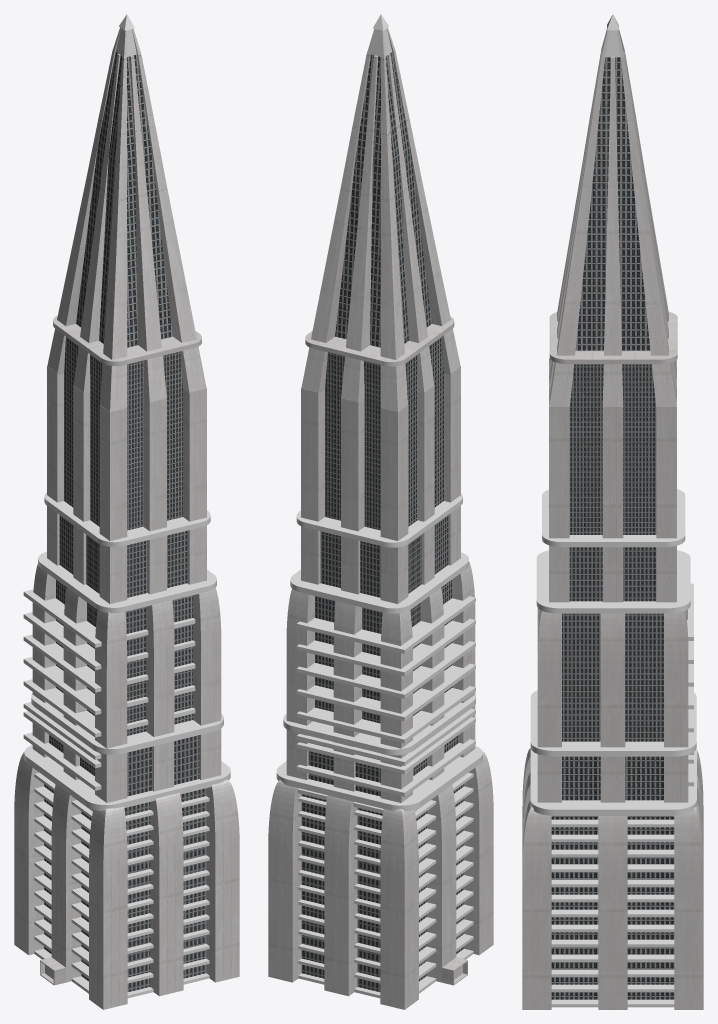
Rendered from brutal_tower.glb.
The picture shows the model from 3 angles, left to right: view 1: azimuth 30°, elevation 25°; view 2: azimuth 150°, elevation 25°; view 3: azimuth 270°, elevation 25°; orthographic projection.
Visible parts, largest first — view 1: Cube_Baked_Cube_Baked_0, Cube.008_Baked_Cube.008_Baked_0, Cube.007_Baked_Cube.007_Baked_0, Cube.002_Baked_Cube.002_Baked_0, Cube.001_Baked_Cube.001_Baked_0, Cube.003_Baked_Cube.003_Baked_0, Cube.005_Baked_Cube.005_Baked_0, Cube.006_Baked_Cube.006_Baked_0, Cube.004_Baked_Cube.004_Baked_0, Cube.012_Baked_Cube.012_Baked_0; view 2: Cube.008_Baked_Cube.008_Baked_0, Cube_Baked_Cube_Baked_0, Cube.007_Baked_Cube.007_Baked_0, Cube.002_Baked_Cube.002_Baked_0, Cube.001_Baked_Cube.001_Baked_0, Cube.005_Baked_Cube.005_Baked_0, Cube.006_Baked_Cube.006_Baked_0, Cube.003_Baked_Cube.003_Baked_0, Cube.004_Baked_Cube.004_Baked_0, Cube.012_Baked_Cube.012_Baked_0; view 3: Cube.008_Baked_Cube.008_Baked_0, Cube_Baked_Cube_Baked_0, Cube.007_Baked_Cube.007_Baked_0, Cube.001_Baked_Cube.001_Baked_0, Cube.004_Baked_Cube.004_Baked_0, Cube.003_Baked_Cube.003_Baked_0, Cube.002_Baked_Cube.002_Baked_0, Cube.005_Baked_Cube.005_Baked_0, Cube.006_Baked_Cube.006_Baked_0, Cube.012_Baked_Cube.012_Baked_0.
Part boxes in pixels (<box>): Cube_Baked_Cube_Baked_0: <box>14,752,239,1009</box>; Cube.008_Baked_Cube.008_Baked_0: <box>23,14,230,998</box>; Cube.007_Baked_Cube.007_Baked_0: <box>47,27,206,411</box>; Cube.002_Baked_Cube.002_Baked_0: <box>47,366,206,603</box>; Cube.001_Baked_Cube.001_Baked_0: <box>32,564,221,802</box>; Cube.003_Baked_Cube.003_Baked_0: <box>44,735,206,992</box>; Cube.005_Baked_Cube.005_Baked_0: <box>64,337,182,530</box>; Cube.006_Baked_Cube.006_Baked_0: <box>76,52,172,347</box>; Cube.004_Baked_Cube.004_Baked_0: <box>56,515,192,735</box>; Cube.012_Baked_Cube.012_Baked_0: <box>53,316,201,365</box>; Cube.008_Baked_Cube.008_Baked_0: <box>276,14,482,998</box>; Cube_Baked_Cube_Baked_0: <box>268,751,493,1009</box>; Cube.007_Baked_Cube.007_Baked_0: <box>301,27,460,411</box>; Cube.002_Baked_Cube.002_Baked_0: <box>301,366,460,603</box>; Cube.001_Baked_Cube.001_Baked_0: <box>286,561,475,802</box>; Cube.005_Baked_Cube.005_Baked_0: <box>325,337,443,530</box>; Cube.006_Baked_Cube.006_Baked_0: <box>335,52,431,347</box>; Cube.003_Baked_Cube.003_Baked_0: <box>301,735,463,992</box>; Cube.004_Baked_Cube.004_Baked_0: <box>315,515,451,723</box>; Cube.012_Baked_Cube.012_Baked_0: <box>305,316,454,366</box>; Cube.008_Baked_Cube.008_Baked_0: <box>530,14,696,1007</box>; Cube_Baked_Cube_Baked_0: <box>522,748,703,1009</box>; Cube.007_Baked_Cube.007_Baked_0: <box>549,29,676,406</box>; Cube.001_Baked_Cube.001_Baked_0: <box>537,608,688,802</box>; Cube.004_Baked_Cube.004_Baked_0: <box>562,547,663,741</box>; Cube.003_Baked_Cube.003_Baked_0: <box>551,756,674,999</box>; Cube.002_Baked_Cube.002_Baked_0: <box>549,359,676,602</box>; Cube.005_Baked_Cube.005_Baked_0: <box>569,364,656,534</box>; Cube.006_Baked_Cube.006_Baked_0: <box>575,57,650,350</box>; Cube.012_Baked_Cube.012_Baked_0: <box>549,312,677,364</box>.
Bounding box in the file's own units: 22.17 × 132 × 22.54.
Materials: 10 (9 with a texture image).
